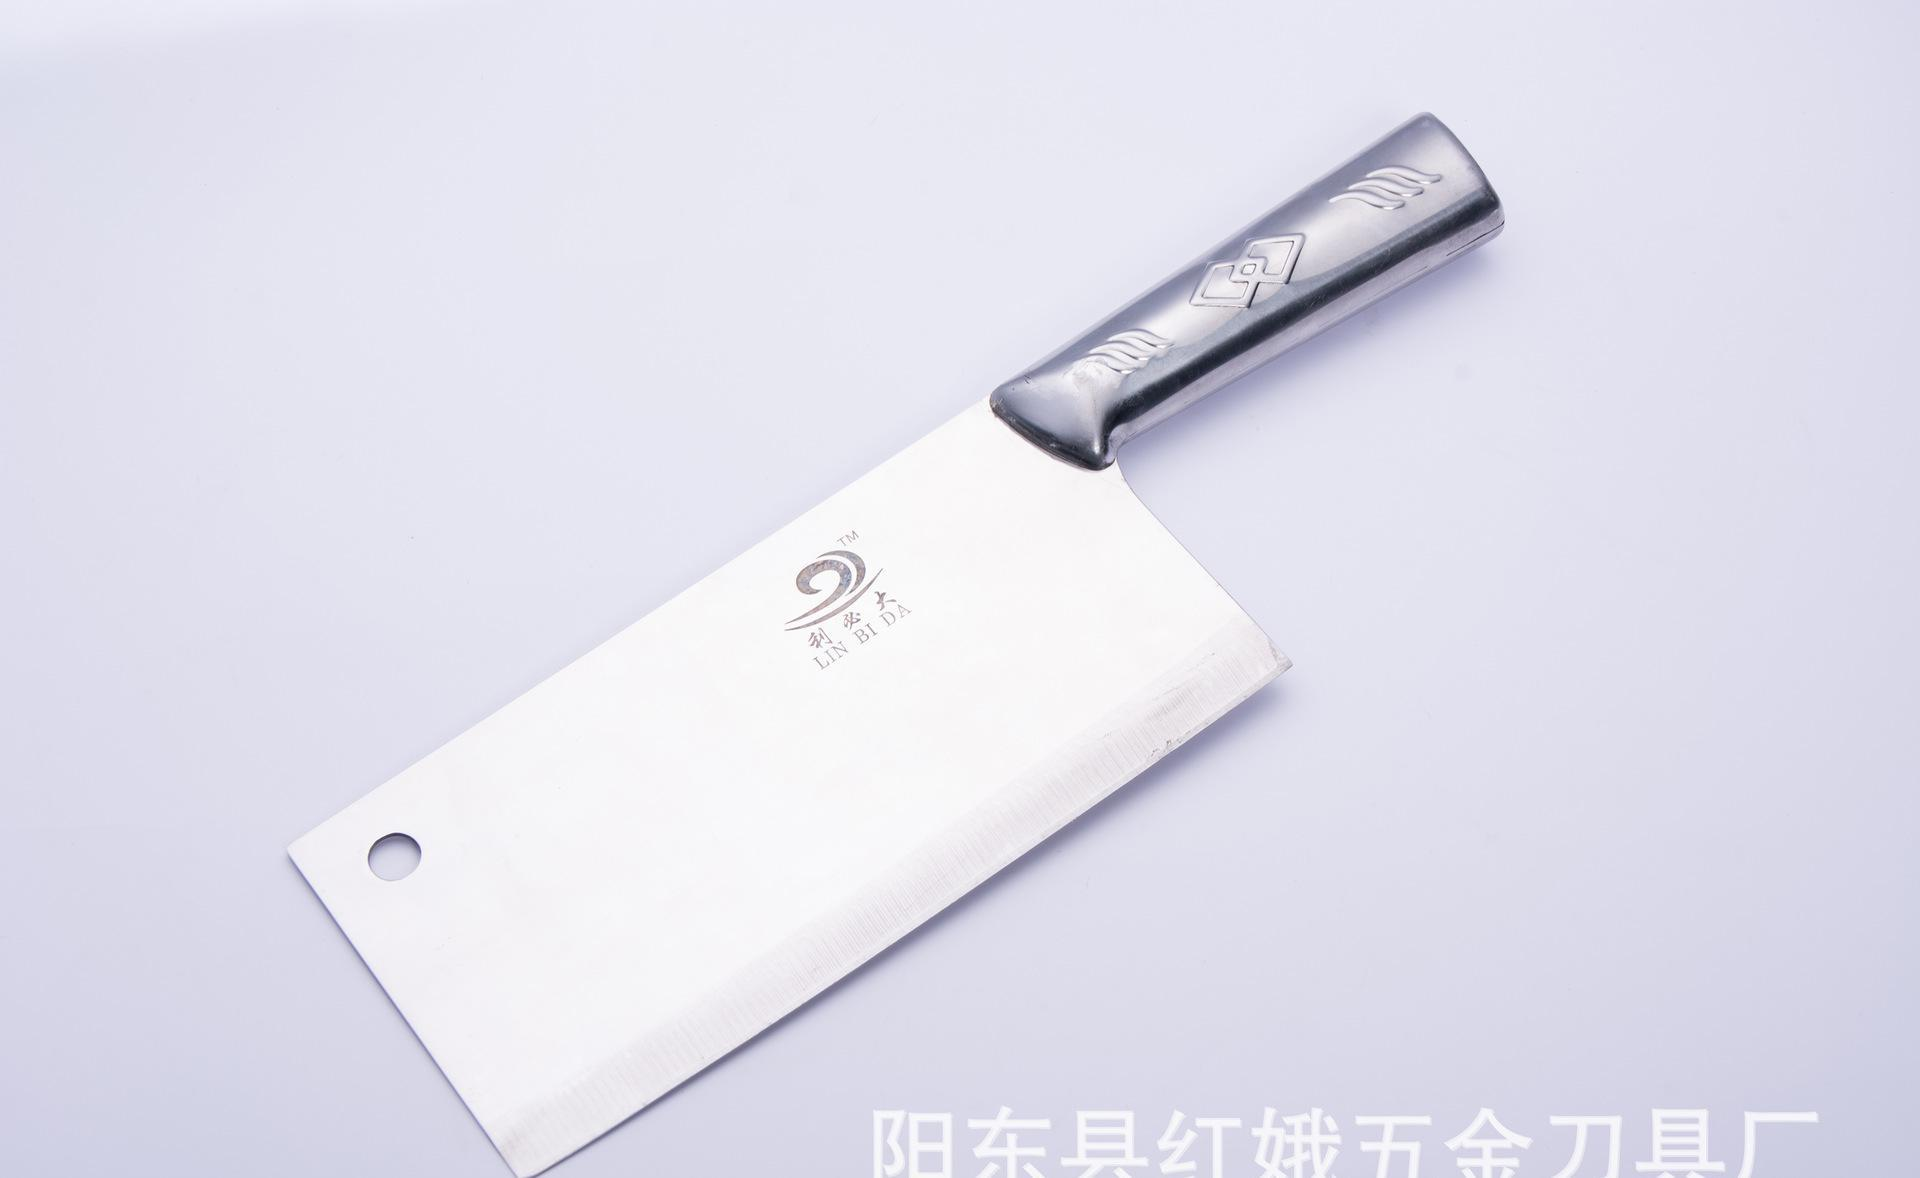knief: (237, 114, 1591, 1112)
